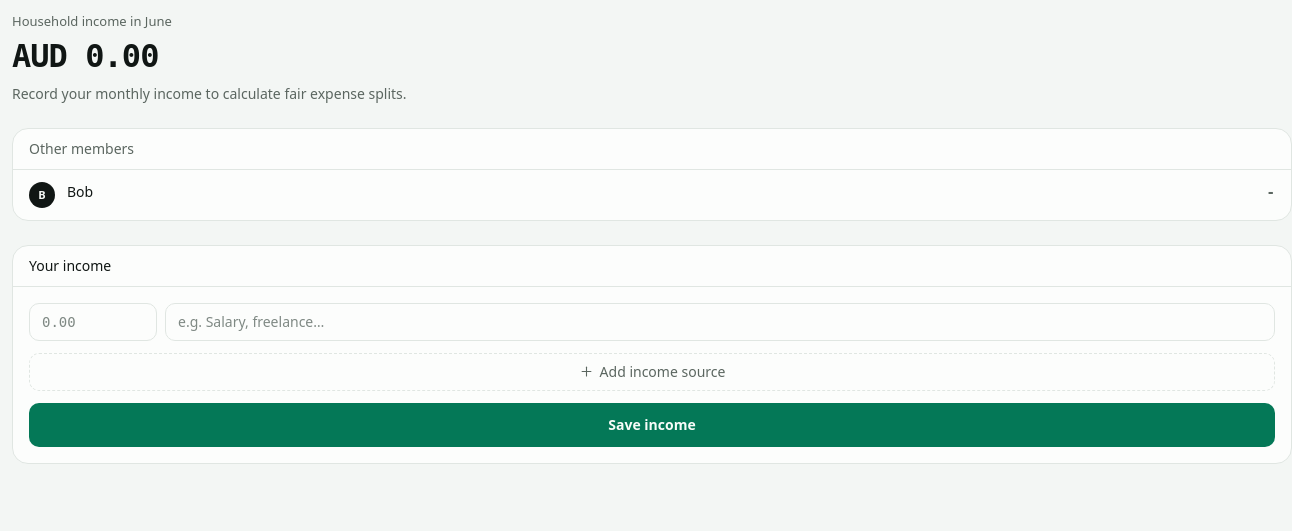
Scenario: IncomeEditor › "Add income source" button adds a new entry row
Click the button "Add income source".
click(652, 372)  # box [29,352,1275,390]
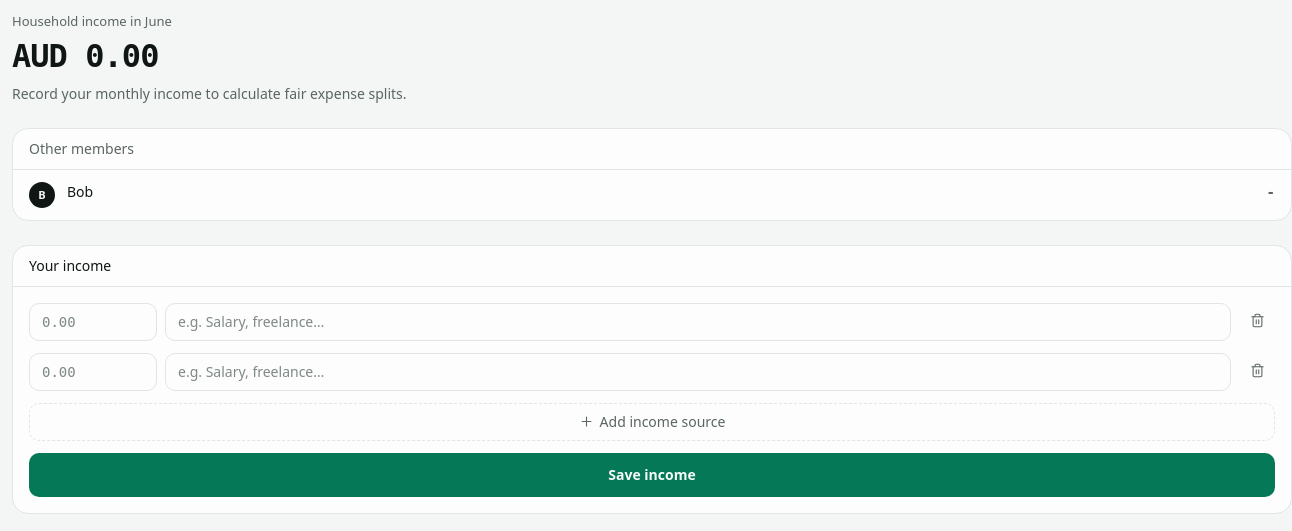
Check: the number of number fields with placeholder "0.00" is 2, box [29,302,157,340]; [29,352,157,390]
